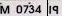character: (1, 5, 10, 14), (34, 4, 42, 13), (16, 4, 22, 14), (28, 4, 34, 14), (23, 4, 28, 13)
